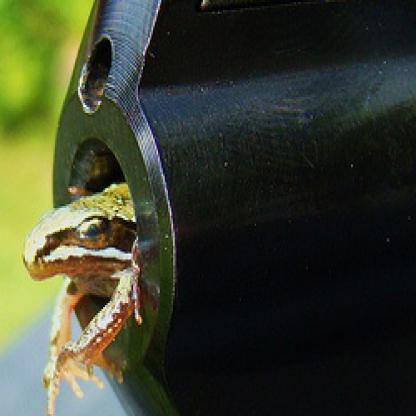gun: (40, 0, 414, 414)
